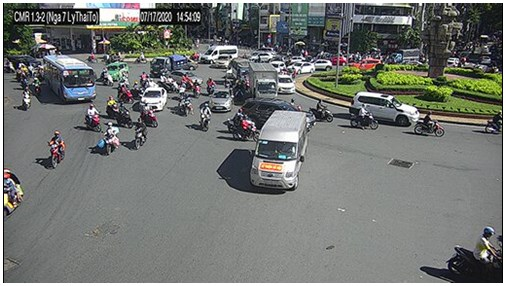xe_buyt: (45, 54, 95, 102)
xe_hoi: (352, 92, 419, 127), (139, 87, 167, 112), (170, 68, 201, 86), (103, 60, 128, 80), (347, 57, 382, 69), (288, 61, 314, 75), (278, 75, 295, 95), (311, 58, 332, 72), (248, 51, 273, 62), (215, 54, 231, 68), (270, 60, 286, 71)
xe_khach: (201, 45, 239, 63)
xe_may: (3, 166, 23, 220), (413, 111, 445, 138), (234, 114, 263, 142), (48, 130, 66, 170), (101, 121, 120, 157), (83, 104, 103, 134), (229, 107, 252, 132), (309, 100, 335, 122), (118, 101, 134, 131), (134, 117, 148, 151), (140, 102, 159, 127), (199, 102, 211, 131), (120, 84, 134, 105), (107, 96, 119, 119), (22, 86, 33, 111), (183, 93, 194, 118), (101, 69, 114, 87), (134, 52, 148, 67), (32, 77, 43, 96), (86, 51, 97, 65), (141, 71, 149, 89)
xe_tai: (149, 55, 188, 78), (390, 48, 420, 63)
